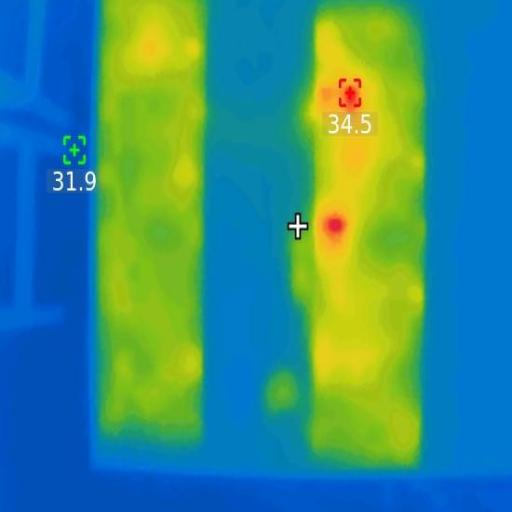hotspot: (319, 79, 365, 112), (323, 212, 345, 240)
